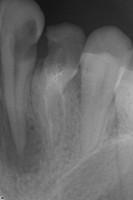Furcation Involvement: (0, 96, 45, 175)
